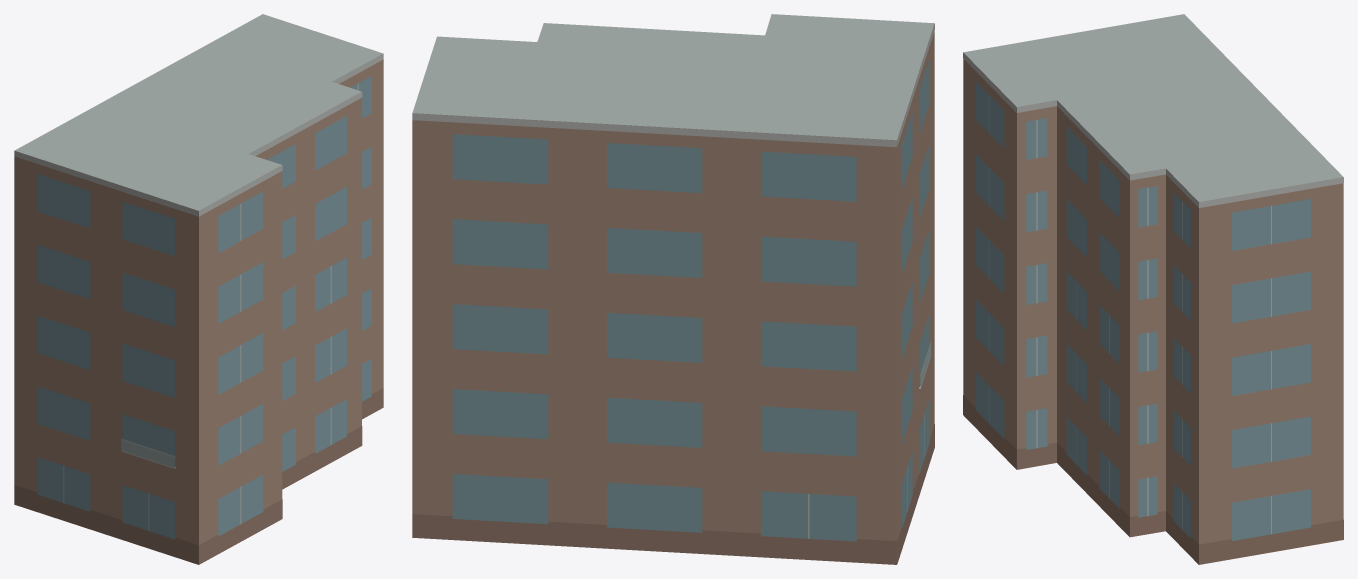
The model's file is survey-upis-32710111.glb.
3 renders of one model, left to right at view 1: azimuth 30°, elevation 25°; view 2: azimuth 150°, elevation 25°; view 3: azimuth 270°, elevation 25°, orthographic. The views are drawn at different scales.
Parts seen in each view (by area): view 1: survey-upis-32710111.tmp; view 2: survey-upis-32710111.tmp; view 3: survey-upis-32710111.tmp.
Part boxes in pixels (bbox=[...]): survey-upis-32710111.tmp: bbox=[14, 14, 383, 564]; survey-upis-32710111.tmp: bbox=[412, 14, 934, 564]; survey-upis-32710111.tmp: bbox=[963, 14, 1343, 564].
Bounding box in the file's own units: 16.54 × 14.85 × 14.13.
